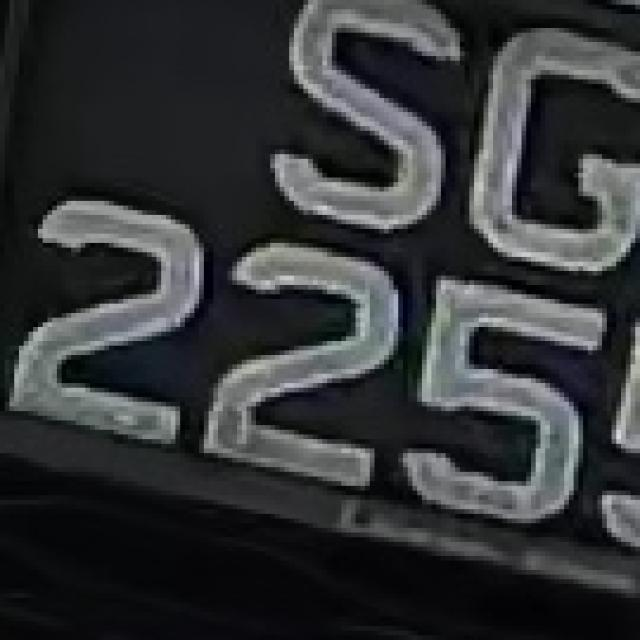2: (5, 168, 208, 449), (218, 219, 398, 500)
5: (417, 262, 607, 542)
G: (3, 0, 5, 2)
S: (275, 0, 469, 238)
